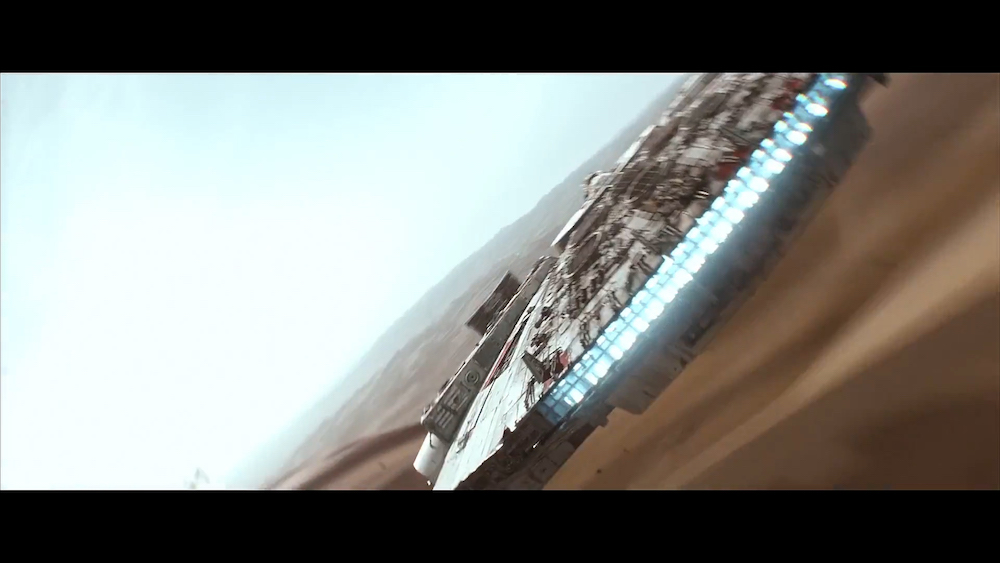Millennium Falcon: (413, 76, 887, 490)
